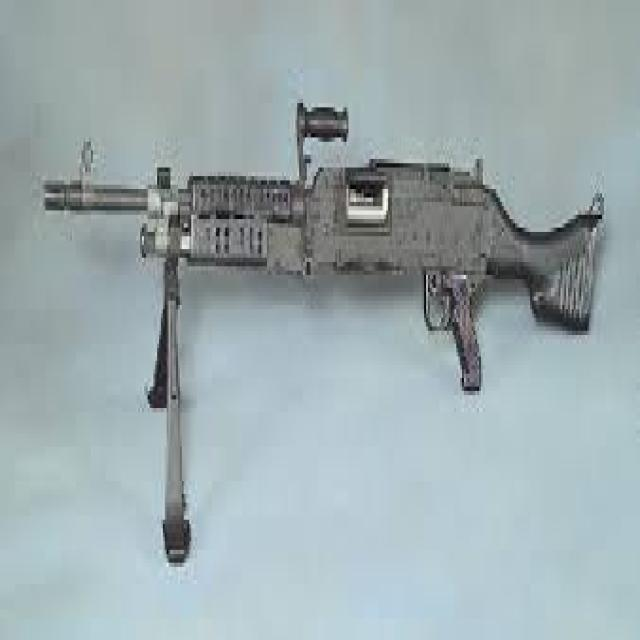Gun: (25, 62, 621, 575)
